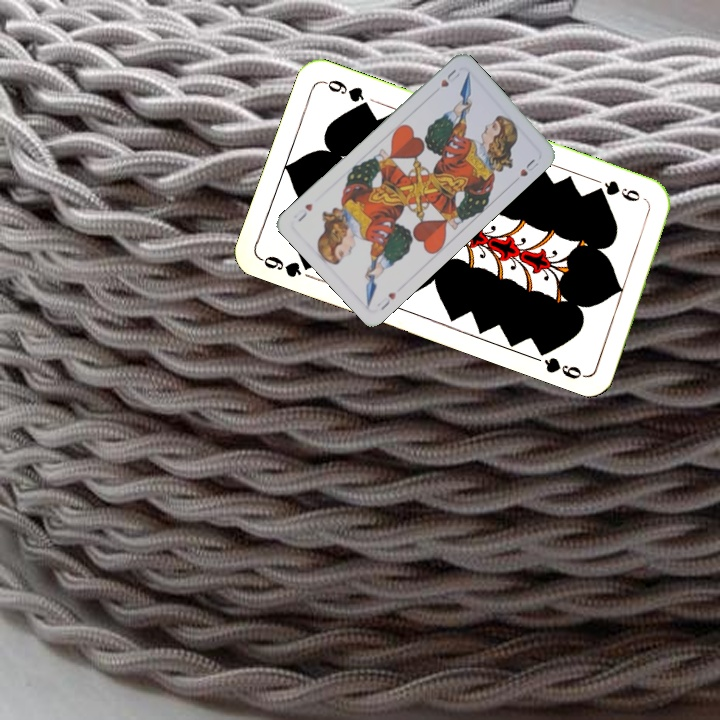G9: (257, 252, 317, 280), (591, 176, 644, 204)
HU: (437, 65, 463, 90), (376, 288, 399, 313)
